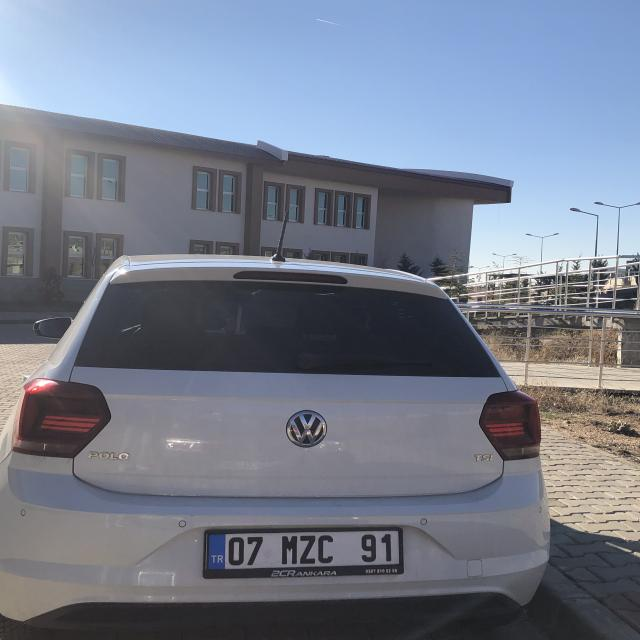license_plate: (208, 532, 401, 570)
